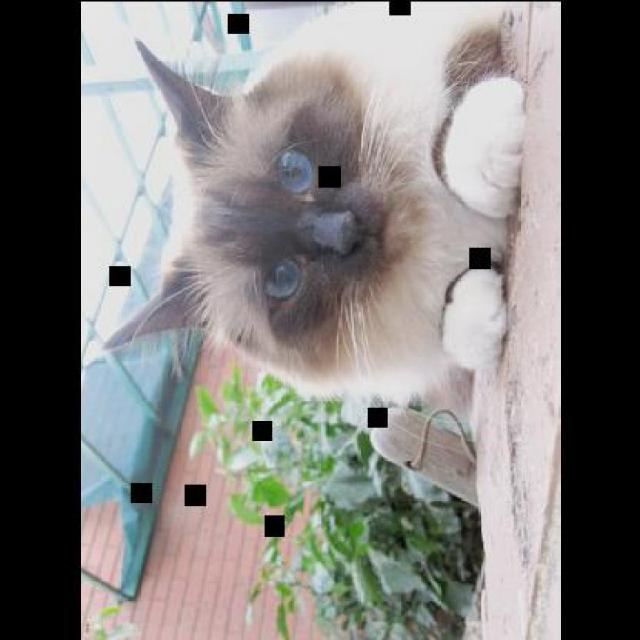unauthorized: (102, 4, 526, 410)
